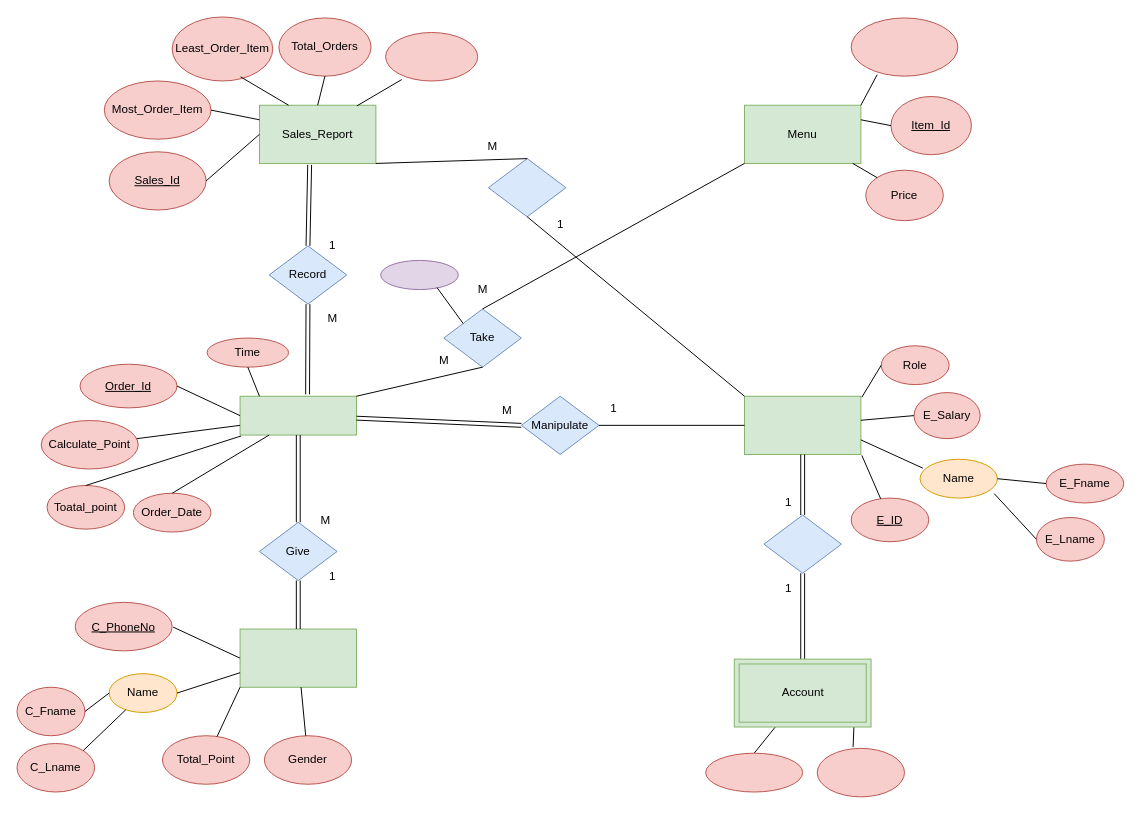
Some shapes in this 1141 by 814 pixel diagram are drawn without their labels. Here are the shapes that lost their labels. From the top down, the centre of each, then its label:
At pixel 431 56: "Report_Date".
At pixel 904 46: "Name_of_Food".
At pixel 526 187: "Print".
At pixel 419 274: "Quantity".
At pixel 297 415: "Invoice".
At pixel 802 424: "Emploees".
At pixel 802 543: "log_in".
At pixel 297 657: "Customer".
At pixel 754 772: "Uesrname".
At pixel 860 772: "Password".
